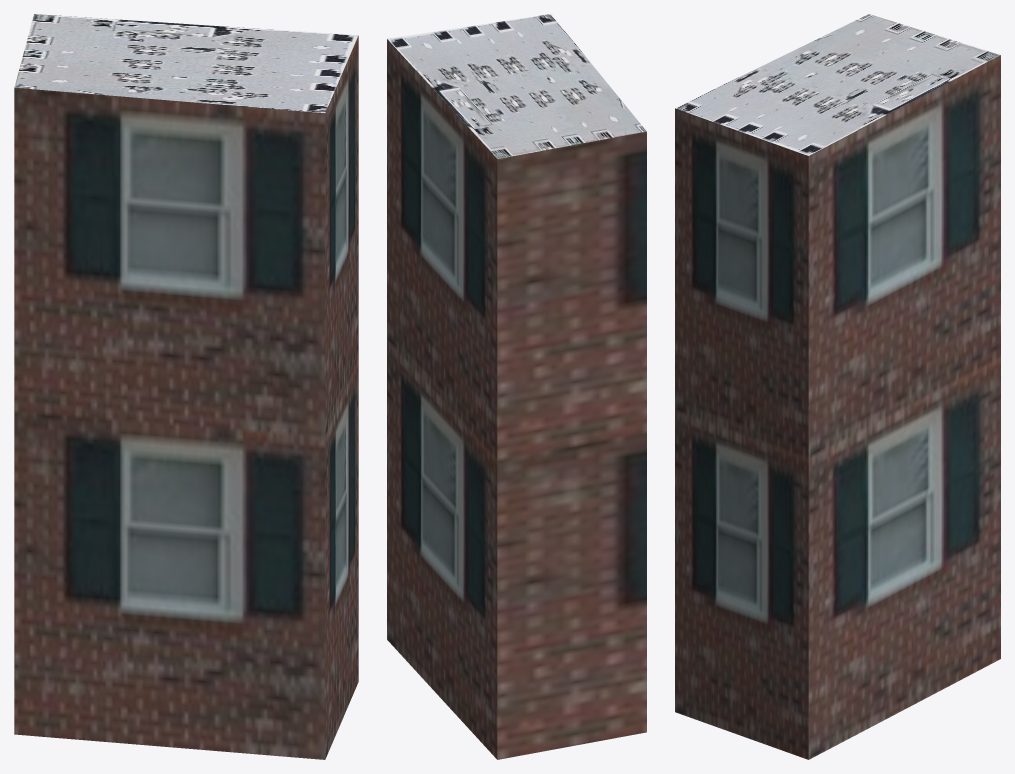
File: ResTex__2343.fbx
The picture shows the model from 3 angles, left to right: view 1: azimuth 30°, elevation 25°; view 2: azimuth 150°, elevation 25°; view 3: azimuth 270°, elevation 25°; orthographic projection. The views are drawn at different scales.
Visible parts, largest first — view 1: CityEngineMaterial_14_m, CityEngineMaterial_m; view 2: CityEngineMaterial_14_m, CityEngineMaterial_m; view 3: CityEngineMaterial_14_m, CityEngineMaterial_m.
Part boxes in pixels (left/top/right/bottom): CityEngineMaterial_14_m: left=14, top=36, right=358, bottom=759; CityEngineMaterial_m: left=14, top=14, right=358, bottom=112; CityEngineMaterial_14_m: left=387, top=39, right=646, bottom=759; CityEngineMaterial_m: left=387, top=14, right=646, bottom=158; CityEngineMaterial_14_m: left=675, top=55, right=1000, bottom=759; CityEngineMaterial_m: left=675, top=14, right=1000, bottom=155.
Size of the model in its own units: 3.03 by 6 by 2.93.
Materials: 2 (2 with a texture image).
